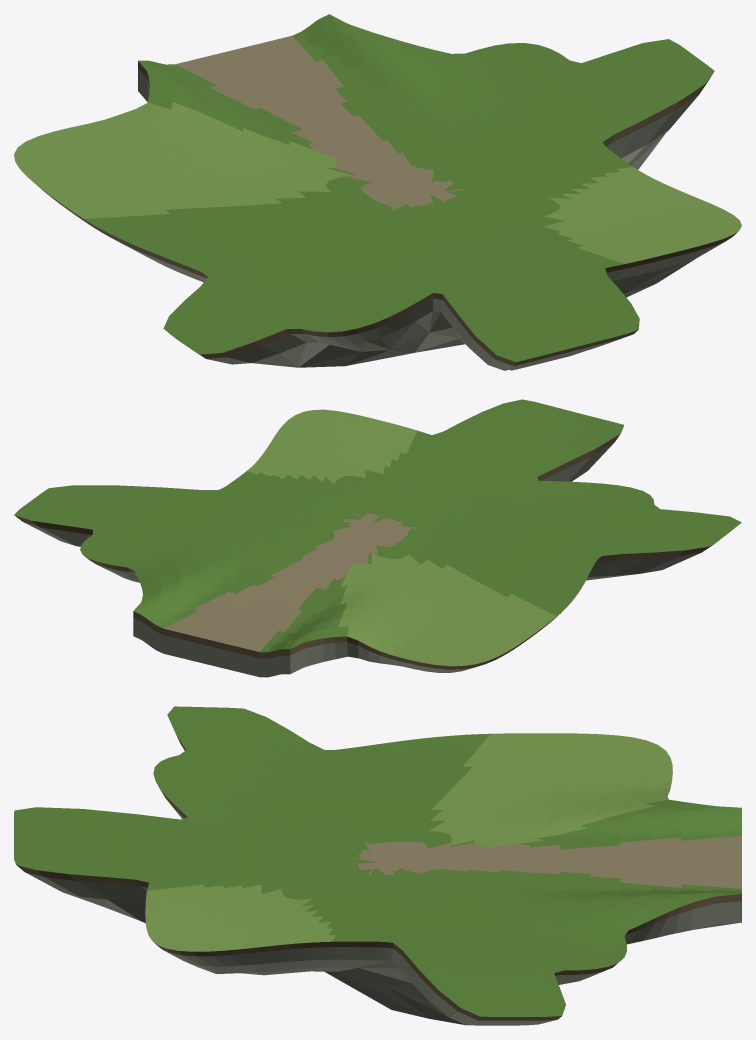
File: side_forgotten_trial_structure.fbx
The picture shows the model from 3 angles, top to bottom: view 1: azimuth 30°, elevation 25°; view 2: azimuth 150°, elevation 25°; view 3: azimuth 270°, elevation 25°; orthographic projection. The views are drawn at different scales.
Visible parts, largest first — view 1: chunk_side_forgotten_trial; view 2: chunk_side_forgotten_trial; view 3: chunk_side_forgotten_trial.
Boxes of the visible parts, box(x1,y1,x2,y2) form: chunk_side_forgotten_trial: box(14, 14, 741, 370); chunk_side_forgotten_trial: box(14, 399, 741, 677); chunk_side_forgotten_trial: box(14, 706, 741, 1025).
Bounding box in the file's own units: 256 × 41.5 × 256.
